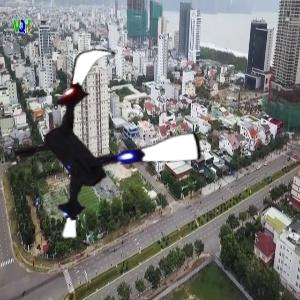drone: (2, 45, 207, 250)
